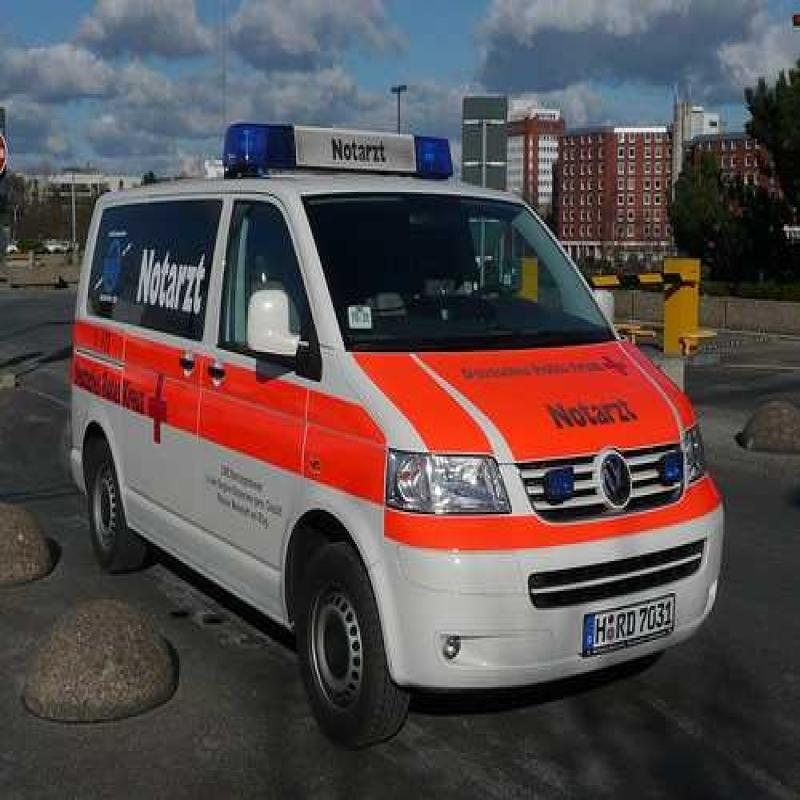AmbulanceSiren: (221, 111, 468, 187)
